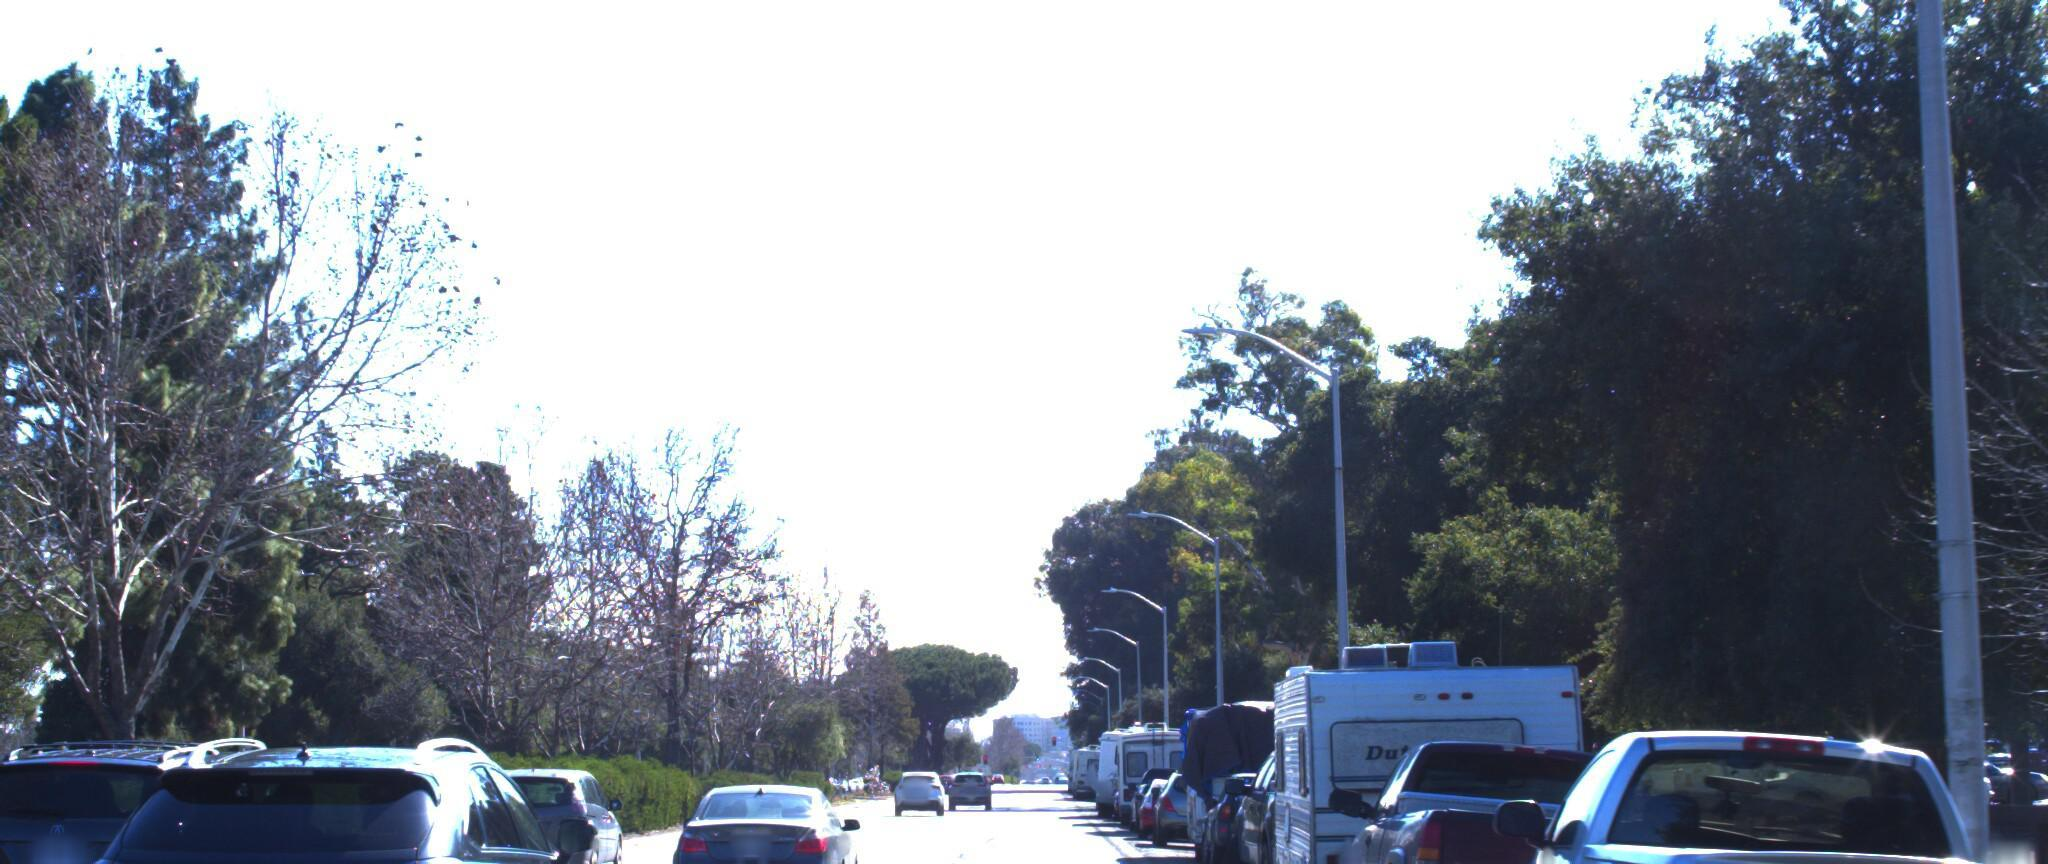car: (1425, 698, 2048, 864), (29, 713, 619, 864), (1290, 715, 1768, 864), (0, 723, 325, 864), (1204, 724, 1471, 864), (1736, 790, 2048, 864), (453, 737, 626, 864), (667, 764, 865, 864), (1183, 739, 1324, 864)
other_vehicle: (1256, 615, 1603, 864), (1166, 683, 1337, 855)
